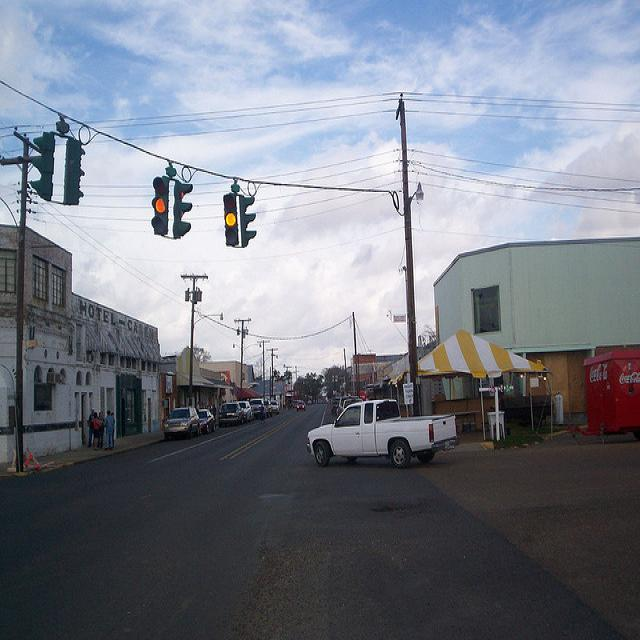Vehicle: (307, 397, 461, 468), (164, 408, 202, 440), (218, 402, 245, 428), (196, 410, 216, 434), (336, 397, 360, 415), (249, 398, 266, 420), (340, 398, 363, 414), (250, 399, 266, 418), (238, 401, 252, 421), (263, 399, 273, 416), (296, 398, 306, 412), (330, 400, 340, 414), (271, 400, 280, 414)
